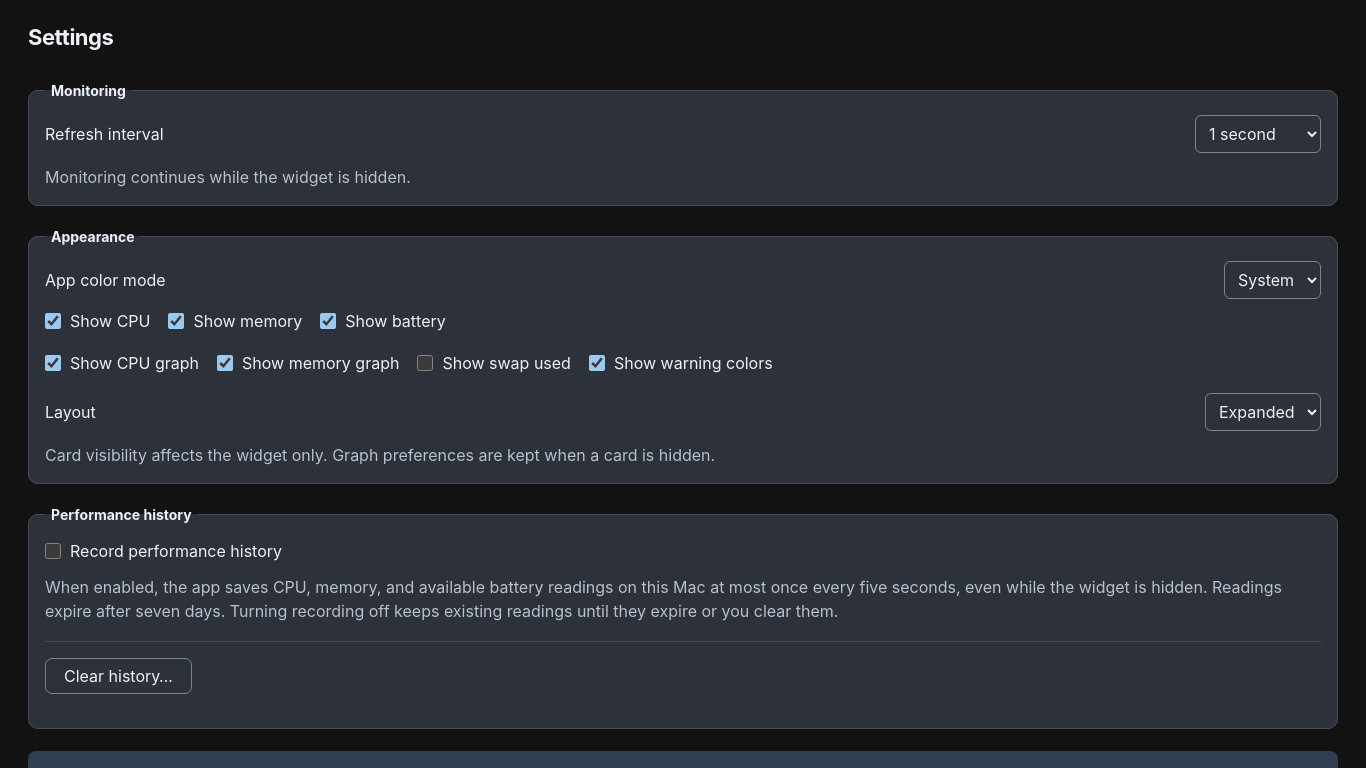
Scenario: Settings window › clear history requires confirmation and runs independently of saving preferences
expect the dropdown labelled "Refresh interval" is shown: met, box [1195,115,1321,153]
Click the checkbox labelled "Record performance history" at x=53, y=551, box [45,543,61,559]
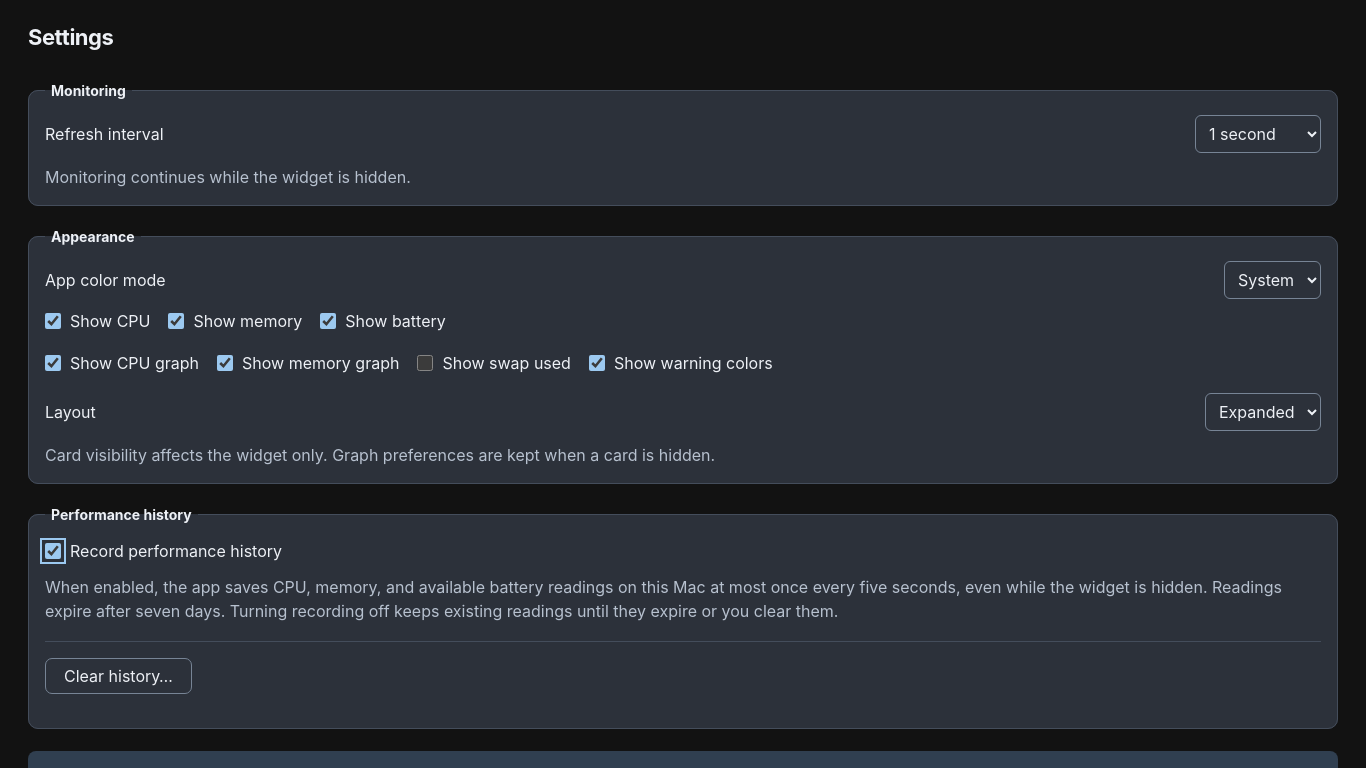
Click the button "Clear history…" at x=118, y=676, box [45,658,192,694]
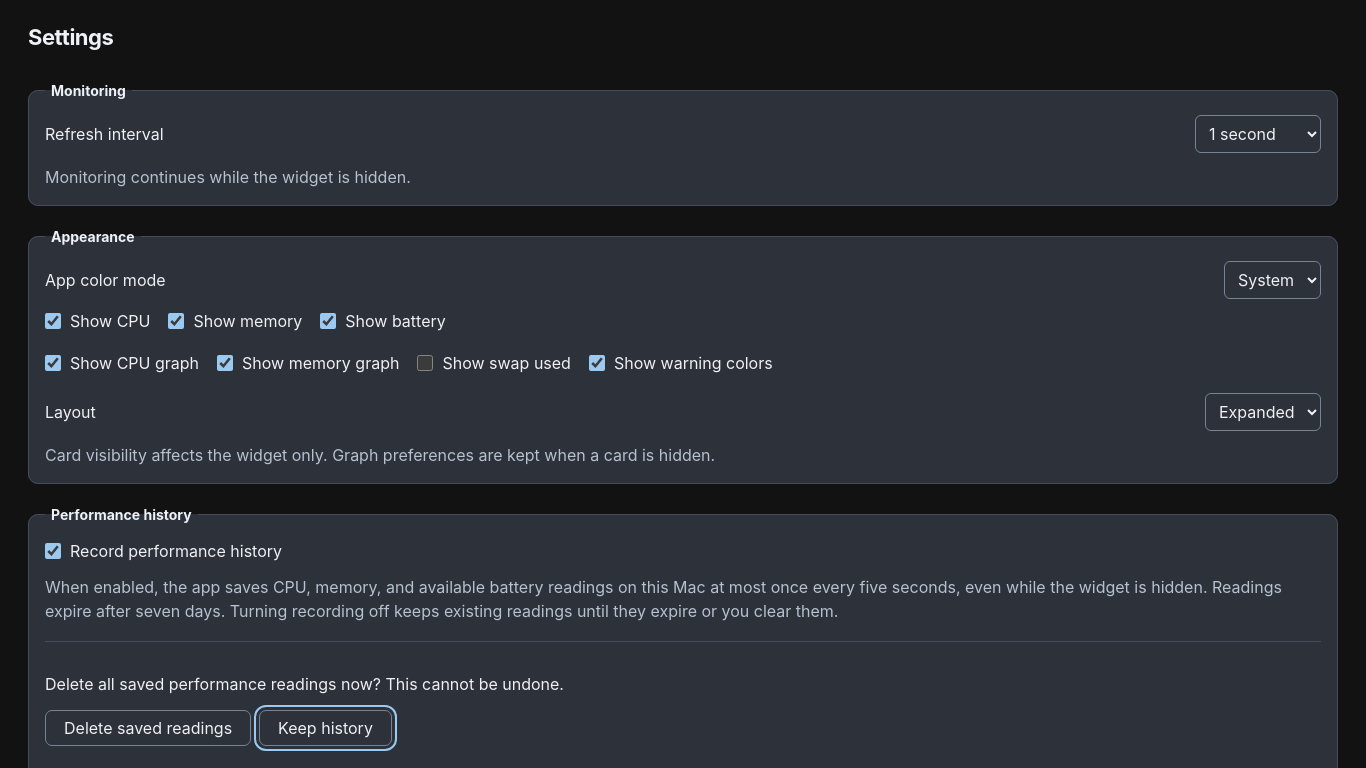
Press Enter
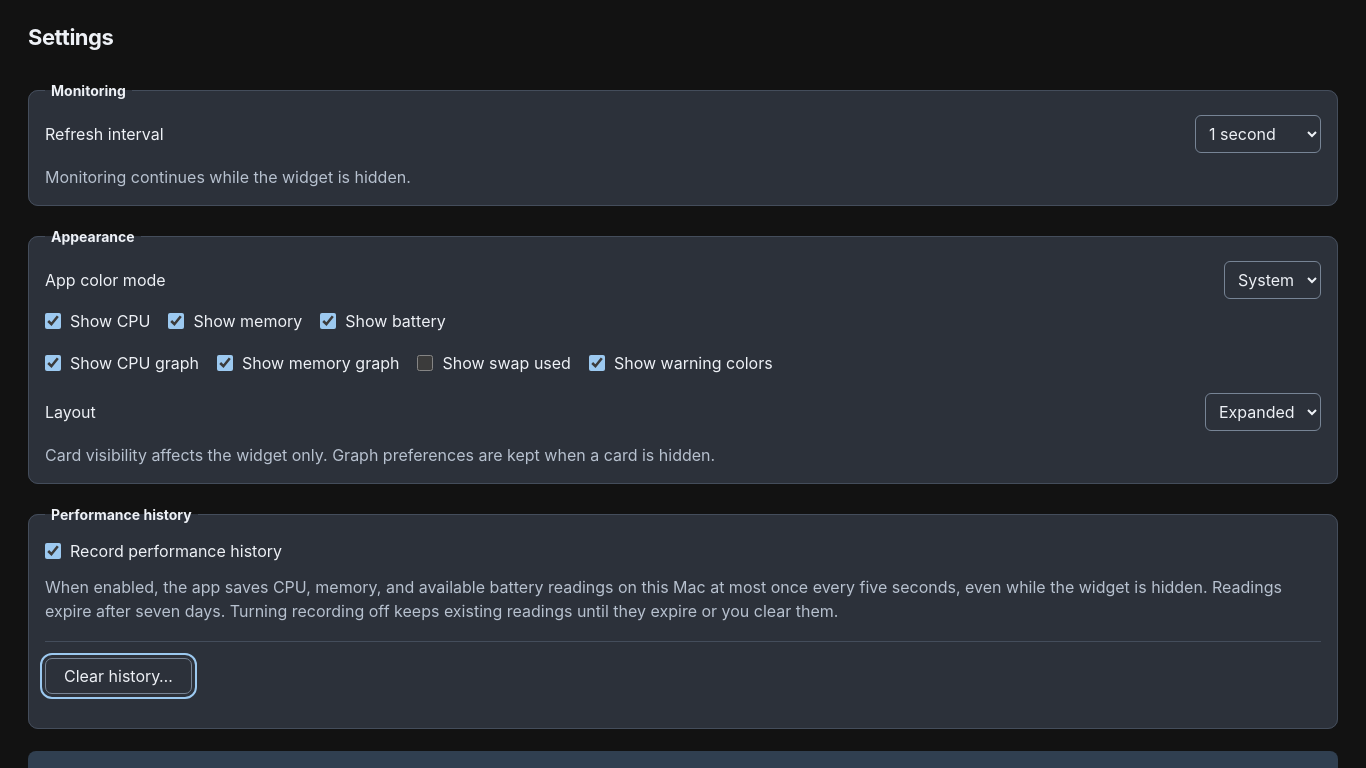
Click the button "Clear history…" at x=118, y=676, box [45,658,192,694]
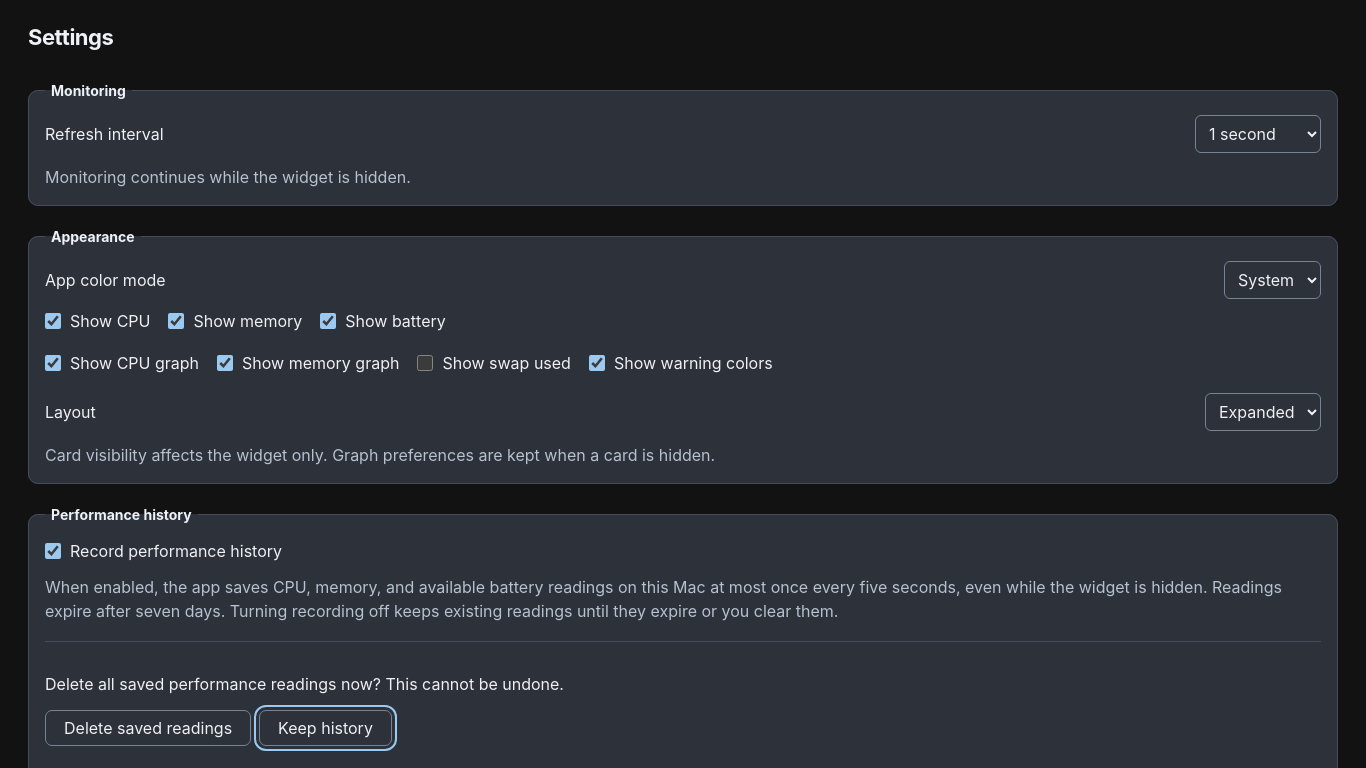
Click the button "Delete saved readings" at x=148, y=728, box [45,710,251,746]
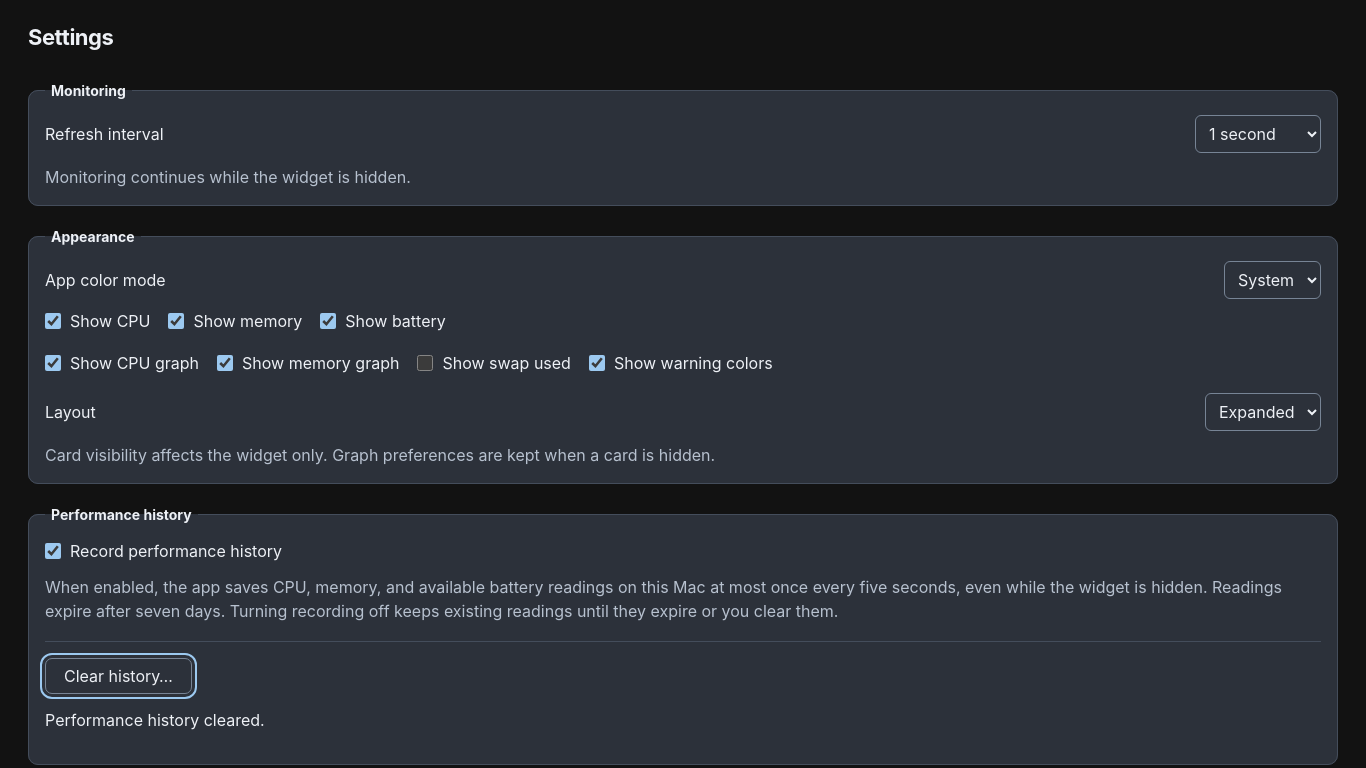
expect the checkbox labelled "Record performance history" is checked: met, box [45,543,61,559]
expect the text "Performance history cleared." is shown: met, box [45,710,265,730]
